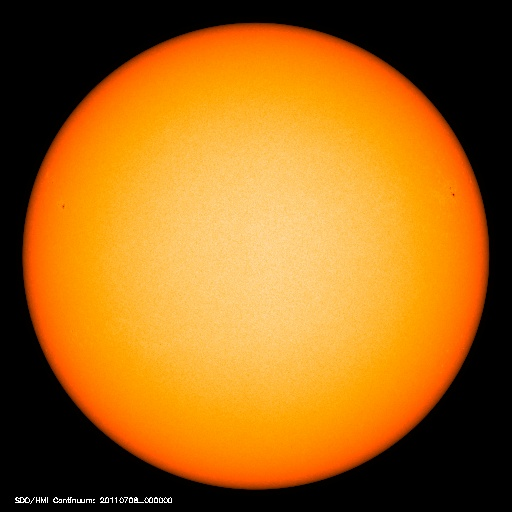sunspot: (437, 180, 468, 208), (48, 194, 77, 221)
